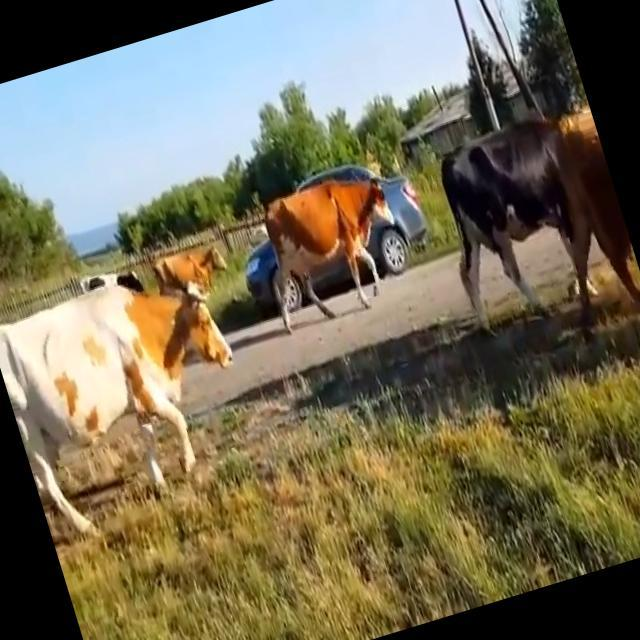COW: (0, 248, 232, 532), (441, 114, 640, 329), (265, 178, 391, 332)
